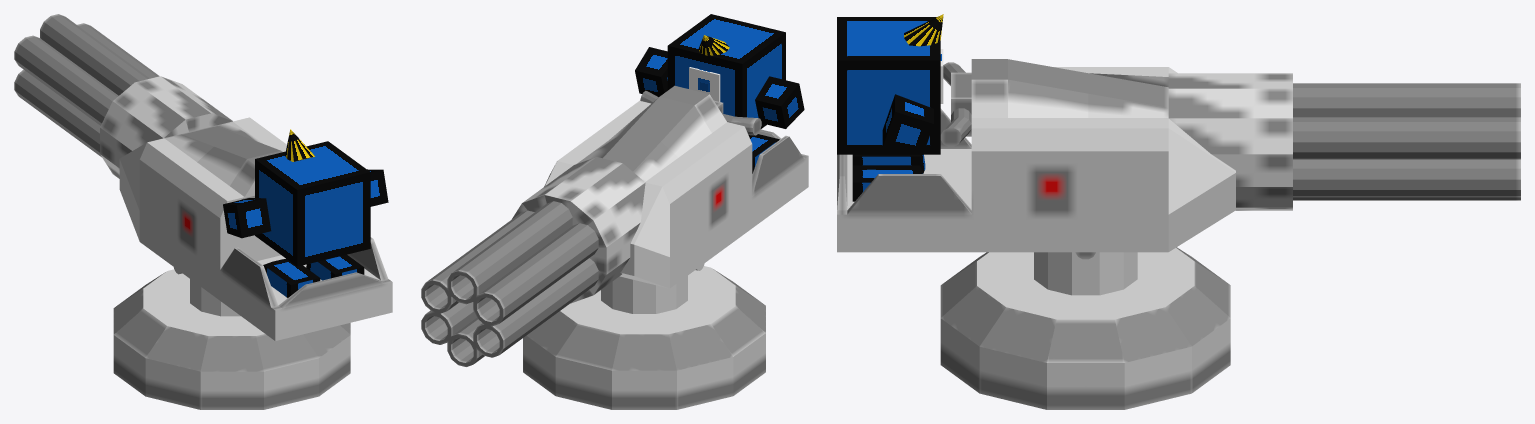
File: akudo-fu+houdai-gatoringu2.fbx
3 renders of one model, left to right at view 1: azimuth 30°, elevation 25°; view 2: azimuth 150°, elevation 25°; view 3: azimuth 270°, elevation 25°, orthographic. The views are drawn at different scales.
Visible parts, largest first — view 1: cuboid_6, cylinder, cuboid, cylinder_11, cylinder_9, cylinder_8, cylinder_10, cuboid_4, cuboid_2, cuboid_1, cylinder_1, cylinder_7 (+2 smaller); view 2: cuboid_6, cylinder, cylinder_11, cuboid, cylinder_9, cylinder_8, cylinder_10, cylinder_1, cuboid_4, cylinder_7, cylinder_6, cuboid_3 (+5 smaller); view 3: cuboid_6, cylinder, cylinder_11, cuboid, cylinder_7, cylinder_6, cylinder_8, cylinder_1, cuboid_3, cylinder_4, cuboid_1, cylinder_2 (+3 smaller).
Boxes of the visible parts, x1,y1,x2,y2 form: cuboid_6: (119,117,392,340); cylinder: (113,269,350,409); cuboid: (255,141,370,266); cylinder_11: (100,76,232,178); cylinder_9: (14,35,118,125); cylinder_8: (40,14,149,95); cylinder_10: (14,69,101,157); cuboid_4: (223,198,271,238); cuboid_2: (263,259,320,297); cuboid_1: (306,254,364,280); cylinder_1: (190,279,240,316); cylinder_7: (77,23,159,78); cuboid_6: (544,85,808,288); cylinder: (523,266,765,409); cylinder_11: (512,157,645,303); cuboid: (667,14,785,137); cylinder_9: (473,223,598,326); cylinder_8: (447,201,572,304); cylinder_10: (473,258,598,357); cylinder_1: (601,275,687,313); cuboid_4: (755,76,804,128); cylinder_7: (421,210,534,313); cylinder_6: (421,302,476,344); cuboid_3: (635,47,667,96); cuboid_6: (837,59,1235,252); cylinder: (940,247,1230,409); cylinder_11: (1168,73,1292,210); cuboid: (837,17,940,154); cylinder_7: (1293,117,1520,159); cylinder_6: (1293,159,1520,197); cylinder_8: (1293,83,1520,117); cylinder_1: (1034,252,1137,295); cuboid_3: (882,94,933,155); cylinder_4: (940,62,971,146); cuboid_1: (852,165,922,201); cylinder_2: (1293,197,1520,200).
Bounding box in the file's own units: 175 × 223 × 412.
